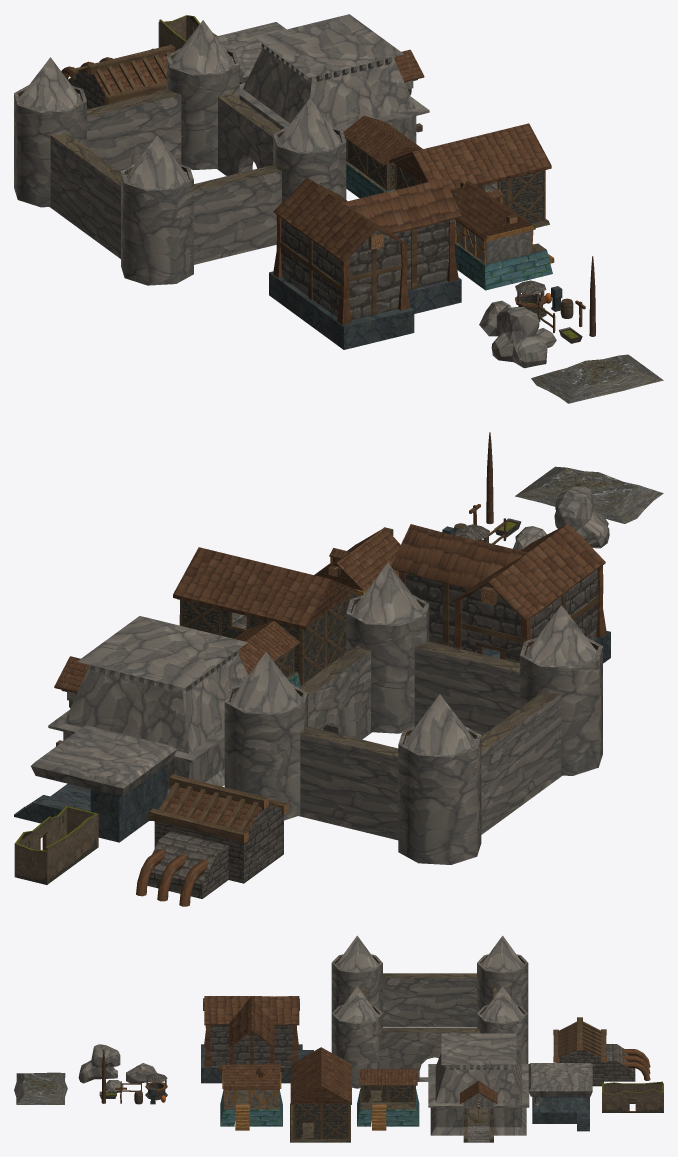
The model's file is finalAllHomes.fbx.
3 renders of one model, top to bottom at view 1: azimuth 30°, elevation 25°; view 2: azimuth 150°, elevation 25°; view 3: azimuth 270°, elevation 25°, orthographic. The views are drawn at different scales.
Parts seen in each view (by area): view 1: Jail, DoubleWayHome, TOWNhALL, homeBig, mainHome, Plungers, home2, BigStone, stoneType2, openTEmple, borkenForestHome, well (+1 smaller); view 2: Jail, DoubleWayHome, TOWNhALL, homeBig, Plungers, openTEmple, borkenForestHome, BigStone, mainHome, home2, stoneType2; view 3: Jail, TOWNhALL, DoubleWayHome, homeBig, mainHome, openTEmple, Plungers, home2, borkenForestHome, BigStone, stoneType2, well (+1 smaller).
Part boxes in pixels (x1,y1,x2,y2): Jail: (14, 20, 346, 285); DoubleWayHome: (269, 177, 461, 349); TOWNhALL: (239, 14, 429, 143); homeBig: (389, 123, 551, 228); mainHome: (453, 180, 554, 290); Plungers: (61, 44, 175, 109); home2: (343, 115, 422, 198); BigStone: (531, 354, 663, 403); stoneType2: (491, 306, 547, 368); openTEmple: (216, 22, 286, 100); borkenForestHome: (158, 15, 217, 50); well: (515, 280, 546, 317); Jail: (224, 563, 602, 864); DoubleWayHome: (391, 524, 610, 663); TOWNhALL: (48, 616, 248, 793); homeBig: (173, 547, 357, 685); Plungers: (136, 774, 288, 906); openTEmple: (14, 725, 176, 842); borkenForestHome: (14, 806, 98, 884); BigStone: (515, 466, 663, 523); mainHome: (314, 527, 400, 598); home2: (234, 621, 300, 687); stoneType2: (554, 486, 609, 548); Jail: (331, 935, 528, 1088); TOWNhALL: (428, 1033, 529, 1142); DoubleWayHome: (201, 996, 313, 1083); homeBig: (290, 1047, 351, 1142); mainHome: (218, 1064, 284, 1130); openTEmple: (528, 1063, 592, 1131); Plungers: (553, 1017, 650, 1086); home2: (357, 1069, 419, 1130); borkenForestHome: (602, 1081, 663, 1112); BigStone: (14, 1072, 67, 1104); stoneType2: (78, 1044, 120, 1083); well: (145, 1073, 167, 1100).
Size of the model in its own units: 3450 by 1277 by 7467.
5 materials, 5 textured.
